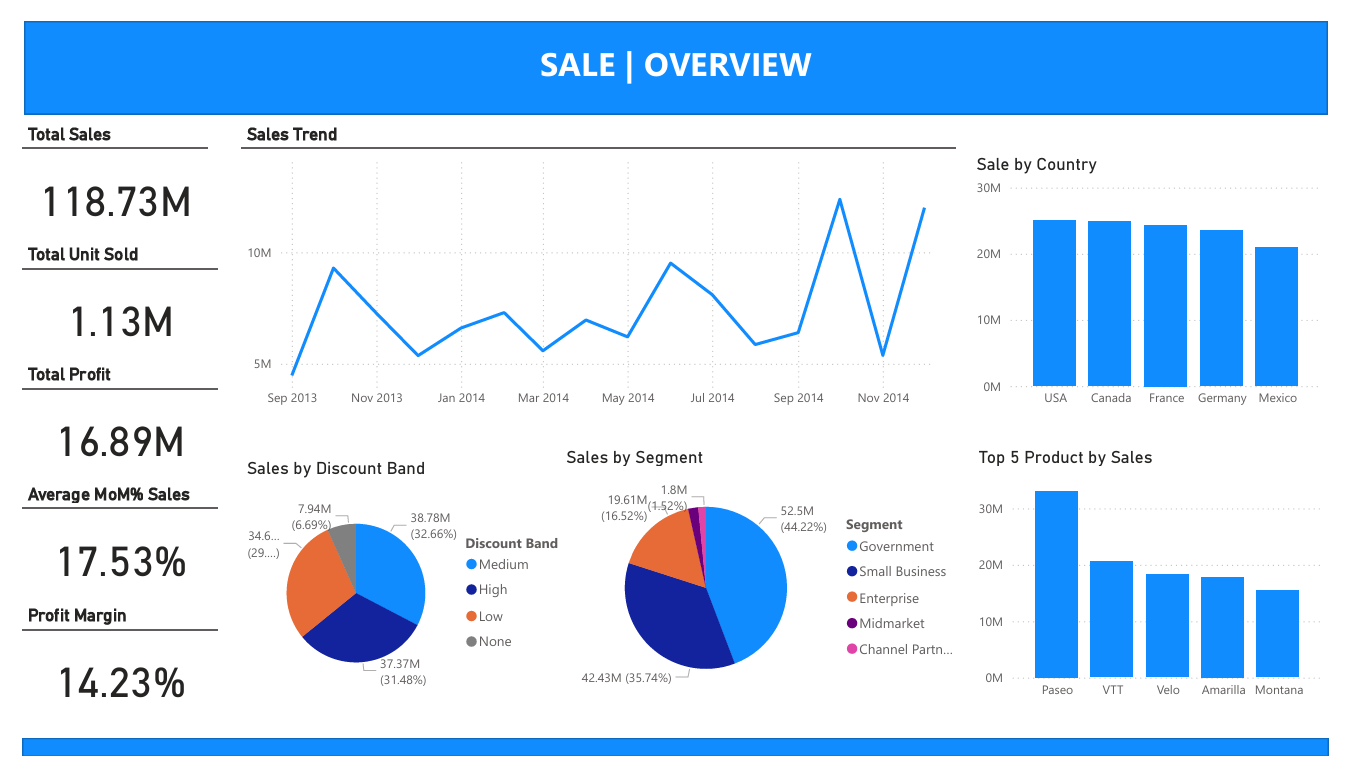

This screenshot's page, from the dashboard's own definition file:
{"tool":"powerbi","page":{"name":"Overview","canvas":[1280,720],"ordinal":0},"visuals":[{"type":"shape","box":[1.6,0,1277.3,90.7],"z":0,"group":"g1"},{"type":"card","title":"Total Sales","fields":{"Values":["Key_Metrics.Total Sales"]},"box":[0,100,181.7,118.3],"z":0},{"type":"group","id":"g1","title":"PageDesign","box":[0,0,1279.5,720.8],"z":1000},{"type":"shape","box":[0,702.6,1279.5,18.2],"z":1000,"group":"g1"},{"type":"card","title":"Total Profit","fields":{"Values":["Key_Metrics.Total Profit"]},"box":[-0.2,335.8,192.5,117.7],"z":2000},{"type":"card","title":"Total Unit Sold","fields":{"Values":["Key_Metrics.Total Unit Sold"]},"box":[-0.2,218.2,192.5,117.7],"z":3000},{"type":"textbox","title":"Title","box":[35,15.9,292.7,58.9],"z":4000},{"type":"card","title":"Profit Margin","fields":{"Values":["Key_Metrics.Profit Margin %"]},"box":[0,571.7,191.7,118.3],"z":5000},{"type":"lineChart","title":"Sales Trend","fields":{"Y":["Sum(Financial Data. Sales)"],"Category":["Calendar.Calendar_Date"]},"box":[215,100,700,286.7],"z":6000},{"type":"clusteredColumnChart","title":"Top 5 Product by Sales","fields":{"Category":["Financial Data.Product"],"Y":["Sum(Financial Data. Sales)"]},"box":[931.9,416.7,348.3,257.7],"z":7000},{"type":"pieChart","title":"Sales by Discount Band","fields":{"Category":["Financial Data.Discount Band"],"Y":["Sum(Financial Data. Sales)"]},"box":[215,428.3,331.7,246.7],"z":8000},{"type":"clusteredColumnChart","title":"Sale by Country","fields":{"Category":["Financial Data.Country"],"Y":["Sum(Financial Data. Sales)"]},"box":[930.3,130.4,348.3,258],"z":9000},{"type":"pieChart","title":"Sales by Segment","fields":{"Category":["Financial Data.Segment"],"Y":["Sum(Financial Data. Sales)"]},"box":[528.3,416.7,401.7,258.3],"z":10000},{"type":"card","title":"Average MoM% Sales","fields":{"Values":["Key_Metrics.Average MoM % Change"]},"box":[0,453.4,191.7,118.3],"z":11000},{"type":"pageNavigator","box":[639.4,0,641,90.7],"z":15001}]}

Visuals, with their boxes in screenshot pixels (x1, y1, x2, y2), scaled from the page's 1280x720 canvas onto the 1351x776 screenshot:
shape: <bbox>2, 0, 1350, 98</bbox>
"Total Sales" card: <bbox>0, 108, 192, 235</bbox>
"PageDesign" group: <bbox>0, 0, 1350, 775</bbox>
shape: <bbox>0, 757, 1350, 775</bbox>
"Total Profit" card: <bbox>0, 362, 203, 489</bbox>
"Total Unit Sold" card: <bbox>0, 235, 203, 362</bbox>
"Title" textbox: <bbox>37, 17, 346, 81</bbox>
"Profit Margin" card: <bbox>0, 616, 202, 744</bbox>
"Sales Trend" lineChart: <bbox>227, 108, 966, 417</bbox>
"Top 5 Product by Sales" clusteredColumnChart: <bbox>984, 449, 1350, 727</bbox>
"Sales by Discount Band" pieChart: <bbox>227, 462, 577, 728</bbox>
"Sale by Country" clusteredColumnChart: <bbox>982, 141, 1350, 419</bbox>
"Sales by Segment" pieChart: <bbox>558, 449, 982, 728</bbox>
"Average MoM% Sales" card: <bbox>0, 489, 202, 616</bbox>
pageNavigator: <bbox>675, 0, 1350, 98</bbox>
